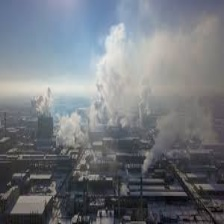smoke: (98, 17, 216, 132), (31, 87, 85, 140), (136, 138, 164, 179)
